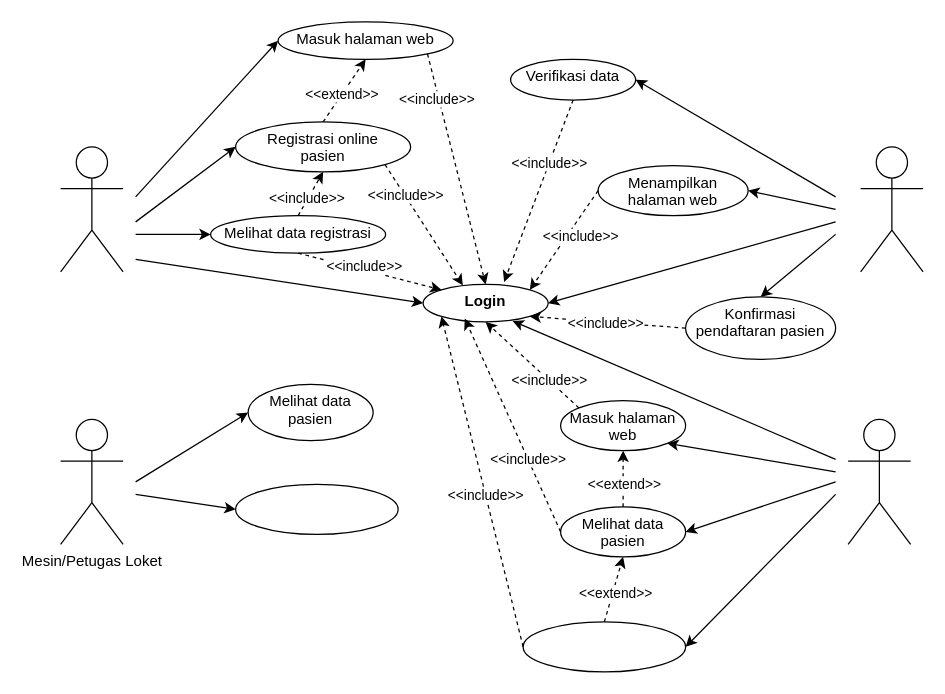
This 945x694 diagram has some shape labels left out. Each missing label, with the box of its shape:
Dokter: (847, 418, 911, 544)
Konfirmasi registrasi ulang: (234, 483, 398, 534)
Mengubah jadwal konsultasi: (522, 621, 686, 672)
Pasien: (59, 146, 123, 272)
Sistem: (859, 146, 923, 272)
